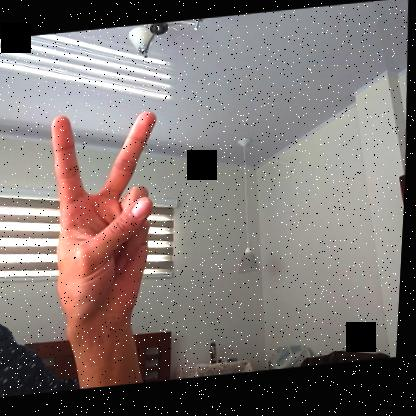V: (44, 106, 168, 346)
